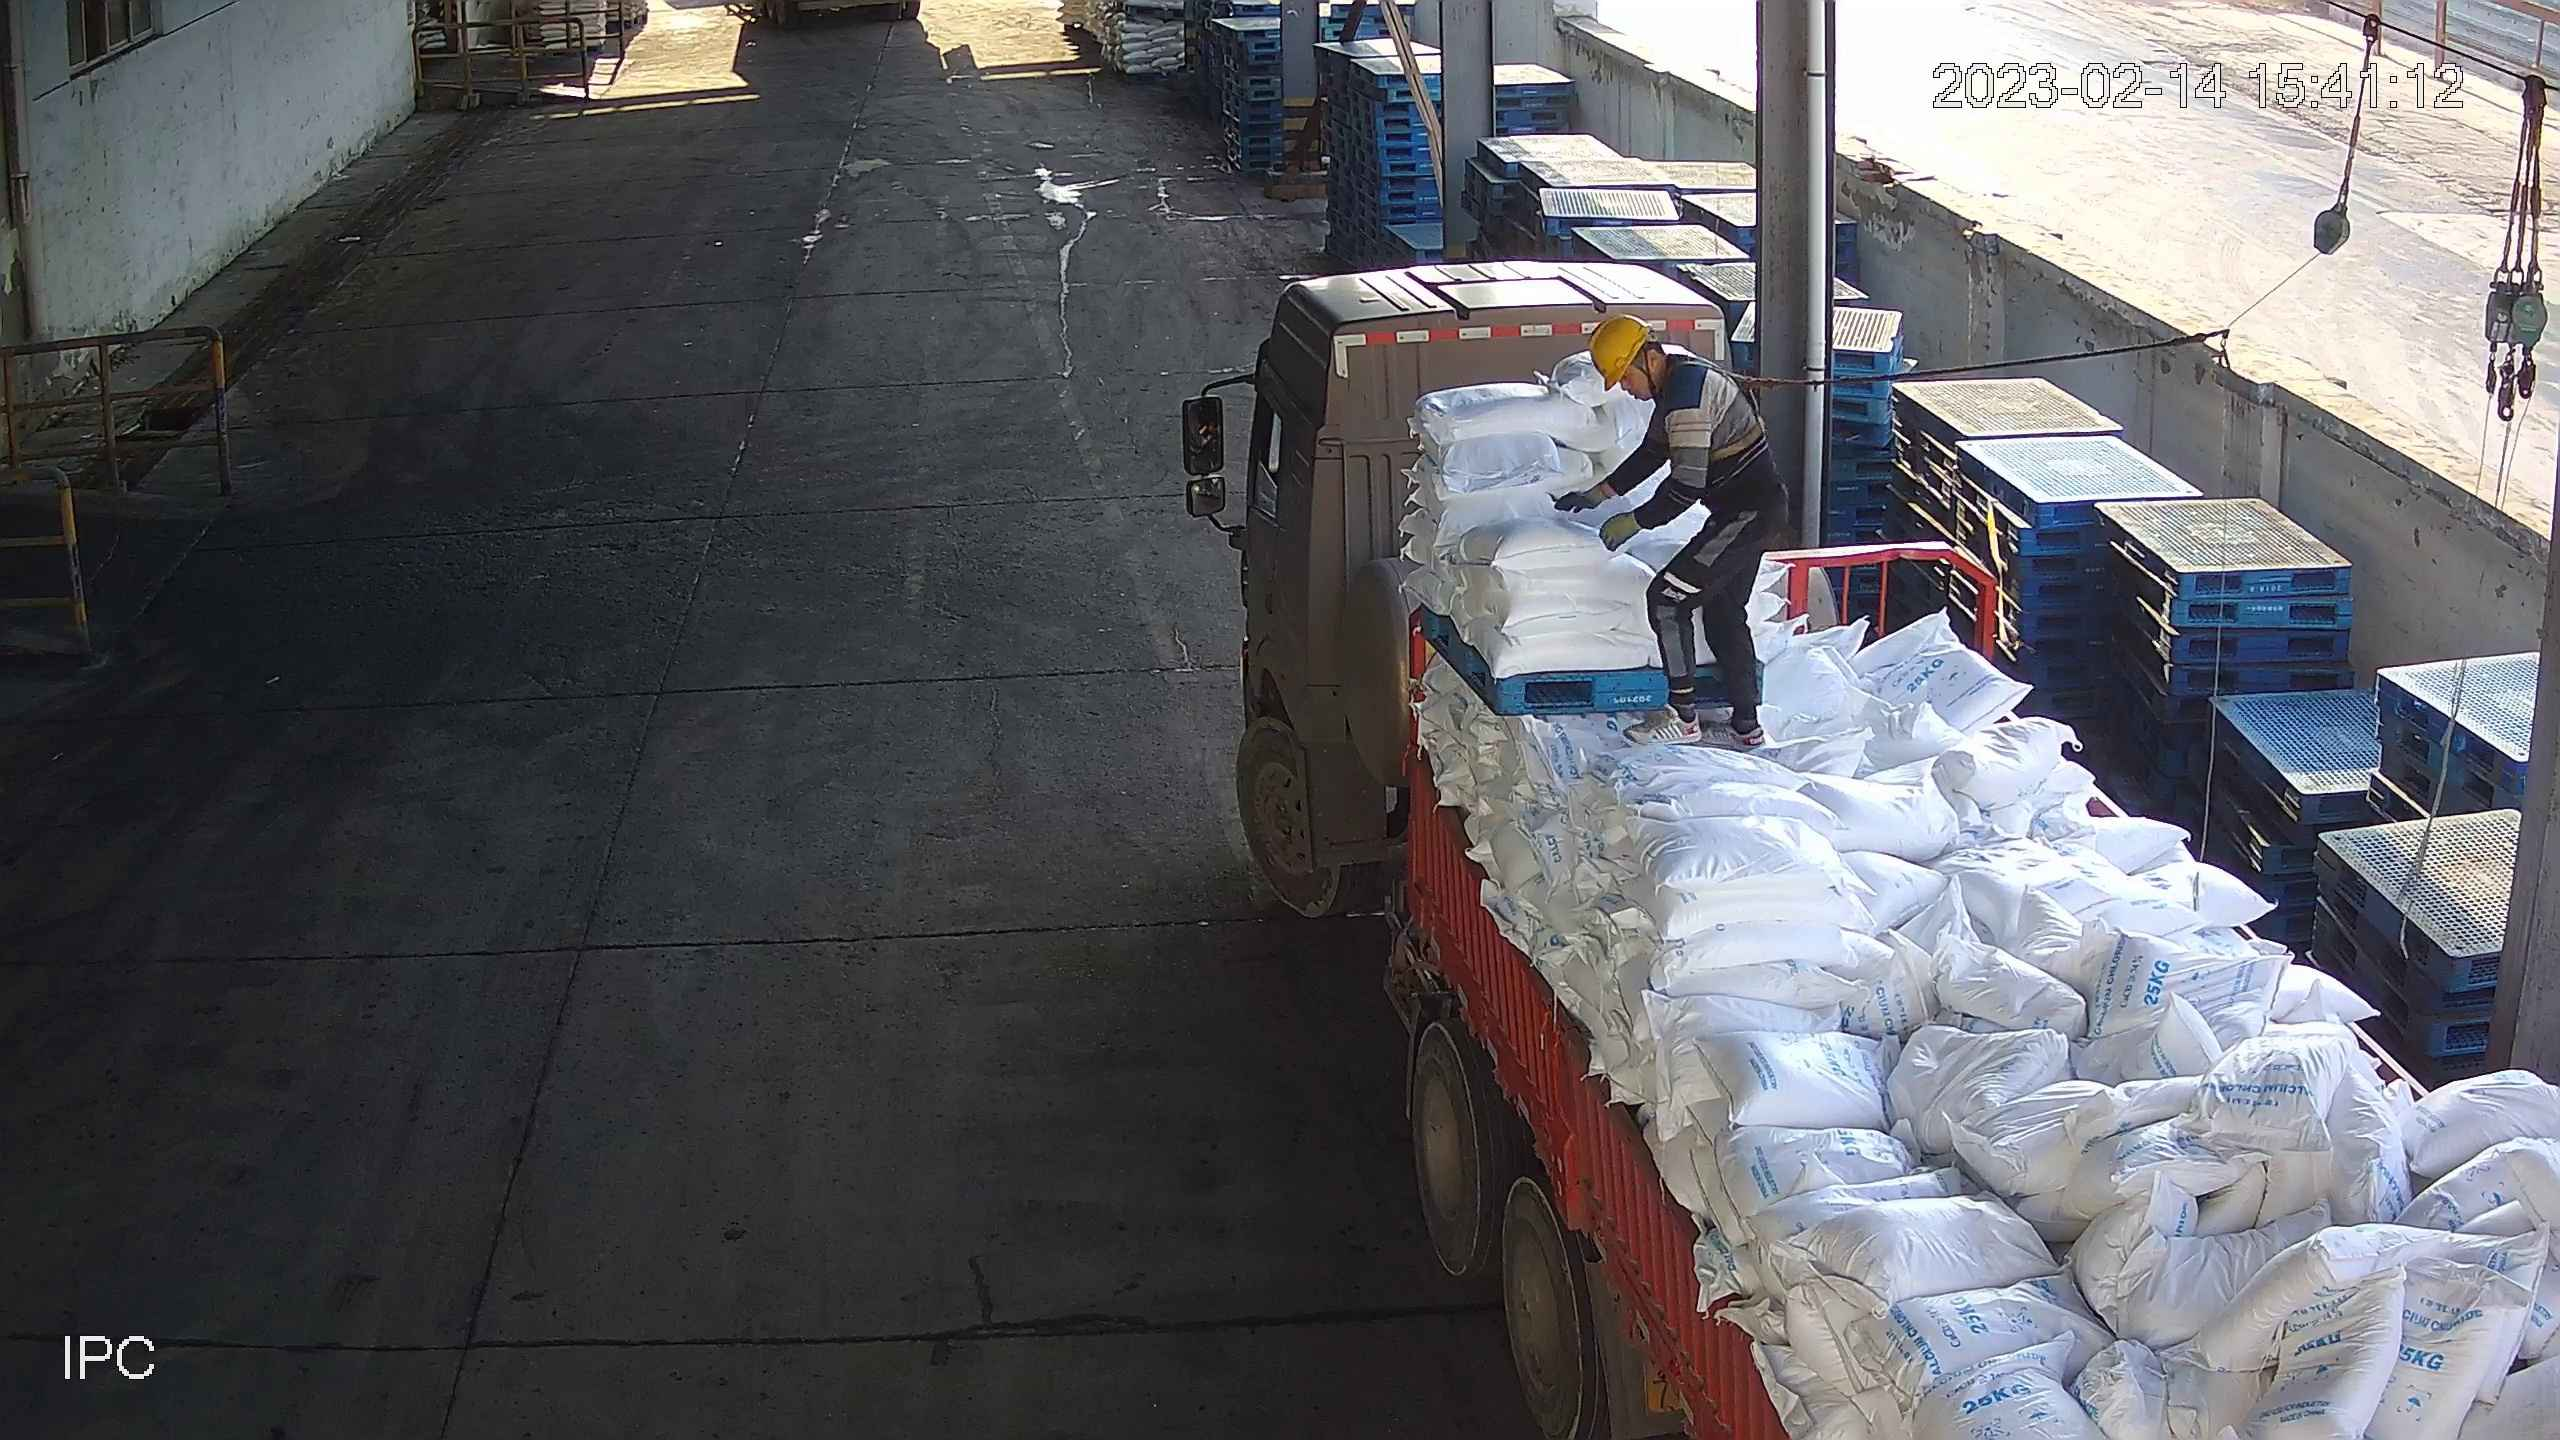belt: (1664, 355, 1768, 459)
head: (1586, 312, 1724, 433)
helmet: (1587, 314, 1653, 391)
people: (1554, 312, 1789, 750)
truck: (1178, 254, 2560, 1440)
